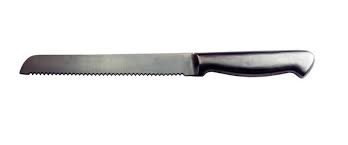knife: (19, 49, 316, 79)
